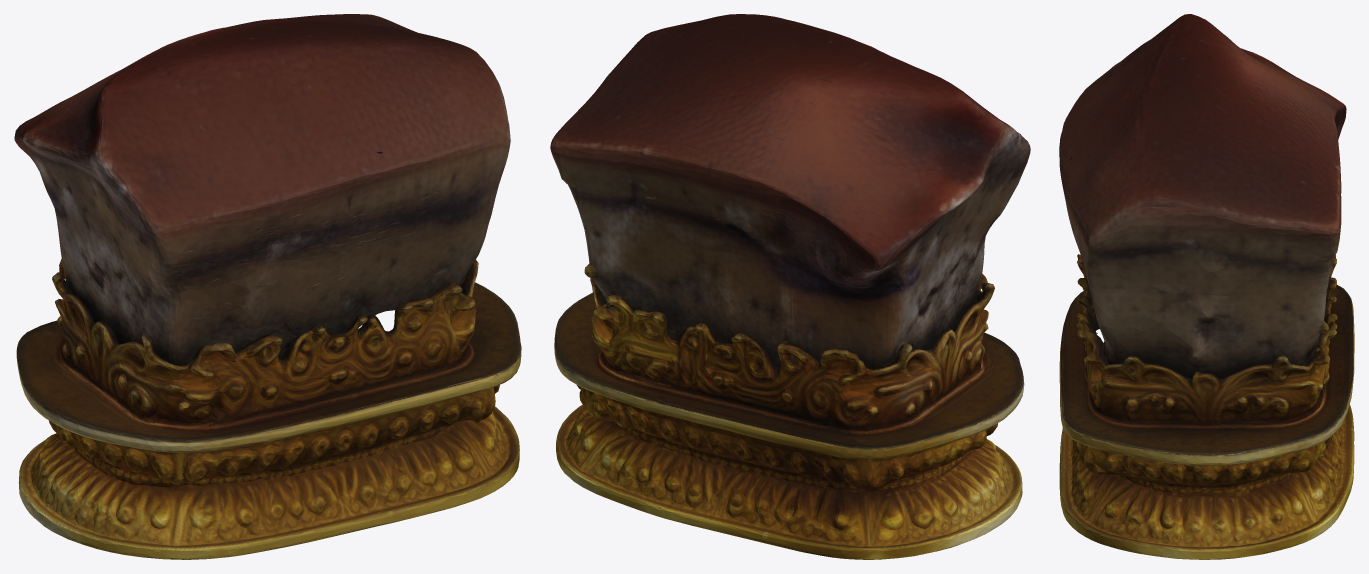
File: meat.glb
3 views of the same model, side by side, from view 1: azimuth 30°, elevation 25°; view 2: azimuth 150°, elevation 25°; view 3: azimuth 270°, elevation 25° (orthographic). The views are drawn at different scales.
Parts seen in each view (by area): view 1: world; view 2: world; view 3: world.
Part boxes in pixels (bbox=[...]): world: bbox=[14, 14, 521, 559]; world: bbox=[550, 14, 1030, 559]; world: bbox=[1059, 14, 1354, 559].
Bounding box in the file's own units: 0.9997 × 0.9488 × 0.6462.
1 material, 1 textured.
